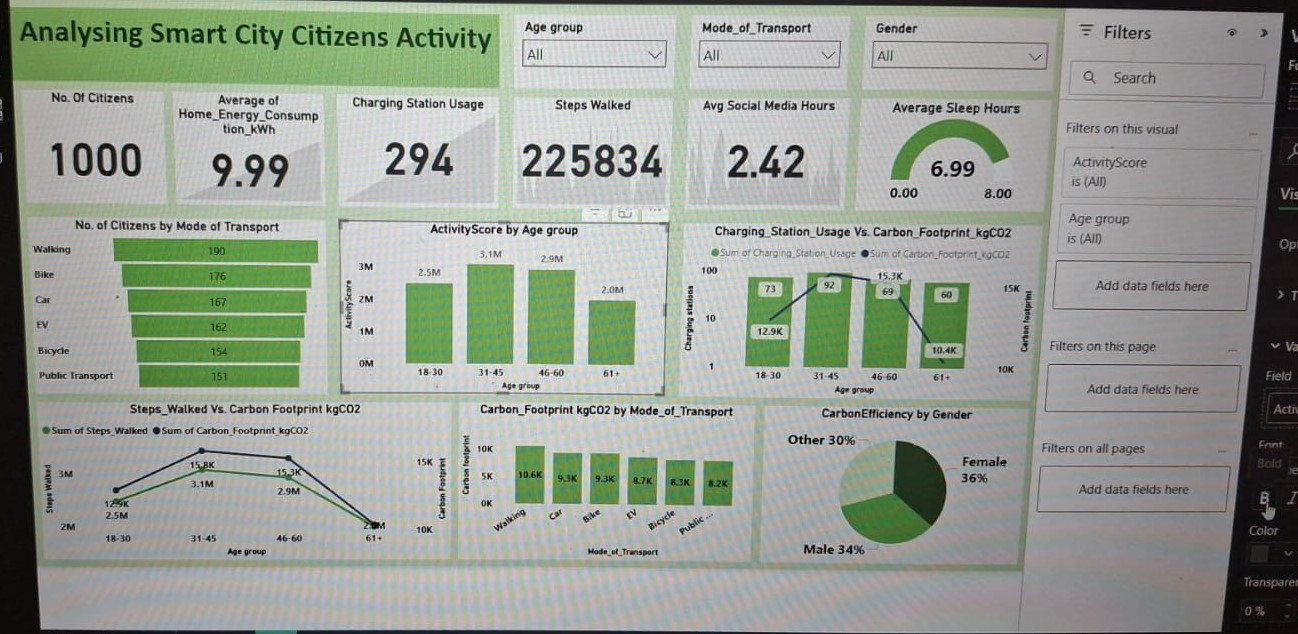

What the dashboard file says about the page in this screenshot:
{"tool":"powerbi","page":{"name":"Page 1","canvas":[1280,720],"ordinal":0},"visuals":[{"type":"pieChart","title":"CarbonEfficiency by Gender","fields":{"Category":["smart_city_citizen.Gender"],"Y":["smart_city_citizen.CarbonEfficiency_ActivityScore"]},"box":[935.9,500.9,336.2,208.6],"z":0},{"type":"clusteredColumnChart","fields":{"Category":["smart_city_citizen.Age group"],"Y":["smart_city_citizen.ActivityScore"]},"box":[391.1,266.2,415.8,223.7],"z":1000},{"type":"slicer","fields":{"Values":["smart_city_citizen.Gender"]},"box":[1037.4,12.3,234.6,87.8],"z":2000},{"type":"funnel","title":"No. of Citizens  by Mode of Transport","fields":{"Category":["smart_city_citizen.Mode_of_Transport","smart_city_citizen.Gender"],"Y":["CountNonNull(smart_city_citizen.Citizen_ID)"]},"box":[9.6,266.2,365,223.7],"z":3000},{"type":"kpi","title":"Average of Home_Energy_Consumption_kWh","fields":{"Indicator":["Avg(smart_city_citizen.Home_Energy_Consumption_kWh)"],"TrendLine":["smart_city_citizen.Home_Energy_Consumption_kWh"]},"box":[192.1,111.1,182.5,137.2],"z":4000},{"type":"kpi","title":"Charging Station Usage","fields":{"Indicator":["Sum(smart_city_citizen.Charging_Station_Usage)"],"TrendLine":["smart_city_citizen.Charging_Station_Usage"]},"box":[391.1,111.1,200.3,137.2],"z":5000},{"type":"gauge","title":"Average Sleep Hours","fields":{"Y":["Avg(smart_city_citizen.Sleep_Hours)"]},"box":[1037.4,111.1,234.6,137.2],"z":6000},{"type":"slicer","fields":{"Values":["smart_city_citizen.Mode_of_Transport"]},"box":[826.1,12.3,192.1,87.8],"z":7000},{"type":"clusteredColumnChart","title":"Carbon_Footprint kgCO2 by Mode_of_Transport","fields":{"Y":["Sum(smart_city_citizen.Carbon_Footprint_kgCO2)"],"Category":["smart_city_citizen.Mode_of_Transport"]},"box":[542,500.9,381.5,208.6],"z":8000},{"type":"lineChart","title":"Steps_Walked Vs. Carbon Footprint kgCO2","fields":{"Y":["Sum(smart_city_citizen.Steps_Walked)"],"Y2":["Sum(smart_city_citizen.Carbon_Footprint_kgCO2)"],"Category":["smart_city_citizen.Age group"]},"box":[9.6,500.9,522.8,208.6],"z":9000},{"type":"lineStackedColumnComboChart","title":"Charging_Station_Usage Vs. Carbon_Footprint_kgCO2 ","fields":{"Y":["Sum(smart_city_citizen.Charging_Station_Usage)"],"Category":["smart_city_citizen.Age group"],"Y2":["Sum(smart_city_citizen.Carbon_Footprint_kgCO2)"]},"box":[826.1,266.2,446,223.7],"z":10000},{"type":"textbox","box":[0,12.3,591.4,87.8],"z":11000},{"type":"card","title":"No. Of Citizens","fields":{"Values":["CountNonNull(smart_city_citizen.Citizen_ID)"]},"box":[9.6,111.1,171.5,137.2],"z":12000},{"type":"kpi","title":"Steps Walked","fields":{"Indicator":["Sum(smart_city_citizen.Steps_Walked)"],"TrendLine":["smart_city_citizen.Age"]},"box":[609.3,111.1,197.6,137.2],"z":13000},{"type":"kpi","title":"Avg Social Media Hours","fields":{"Indicator":["Avg(smart_city_citizen.Social_Media_Hours)"],"TrendLine":["smart_city_citizen.Age"]},"box":[826.1,111.1,197.6,137.2],"z":14000},{"type":"slicer","fields":{"Values":["smart_city_citizen.Age group"]},"box":[609.3,12.3,197.6,87.8],"z":15000},{"type":"image","box":[1202.1,500.9,78.2,48],"z":15001},{"type":"image","box":[452.8,12.3,186.6,87.8],"z":15002},{"type":"image","box":[1211.7,248.4,60.4,63.1],"z":15003}]}

Visuals, with their boxes on the page's 1280x720 design canvas (x1, y1, x2, y2). These are canvas units, not pixel positions in the 1298x634 screenshot, which may show the page scaled, cropped or inside an application window:
"CarbonEfficiency by Gender" pieChart: [left=936, top=501, right=1272, bottom=710]
clusteredColumnChart - smart_city_citizen.Age group x smart_city_citizen.ActivityScore: [left=391, top=266, right=807, bottom=490]
slicer - smart_city_citizen.Gender: [left=1037, top=12, right=1272, bottom=100]
"No. of Citizens  by Mode of Transport" funnel: [left=10, top=266, right=375, bottom=490]
"Average of Home_Energy_Consumption_kWh" kpi: [left=192, top=111, right=375, bottom=248]
"Charging Station Usage" kpi: [left=391, top=111, right=591, bottom=248]
"Average Sleep Hours" gauge: [left=1037, top=111, right=1272, bottom=248]
slicer - smart_city_citizen.Mode_of_Transport: [left=826, top=12, right=1018, bottom=100]
"Carbon_Footprint kgCO2 by Mode_of_Transport" clusteredColumnChart: [left=542, top=501, right=924, bottom=710]
"Steps_Walked Vs. Carbon Footprint kgCO2" lineChart: [left=10, top=501, right=532, bottom=710]
"Charging_Station_Usage Vs. Carbon_Footprint_kgCO2 " lineStackedColumnComboChart: [left=826, top=266, right=1272, bottom=490]
textbox: [left=0, top=12, right=591, bottom=100]
"No. Of Citizens" card: [left=10, top=111, right=181, bottom=248]
"Steps Walked" kpi: [left=609, top=111, right=807, bottom=248]
"Avg Social Media Hours" kpi: [left=826, top=111, right=1024, bottom=248]
slicer - smart_city_citizen.Age group: [left=609, top=12, right=807, bottom=100]
image: [left=1202, top=501, right=1280, bottom=549]
image: [left=453, top=12, right=639, bottom=100]
image: [left=1212, top=248, right=1272, bottom=312]
